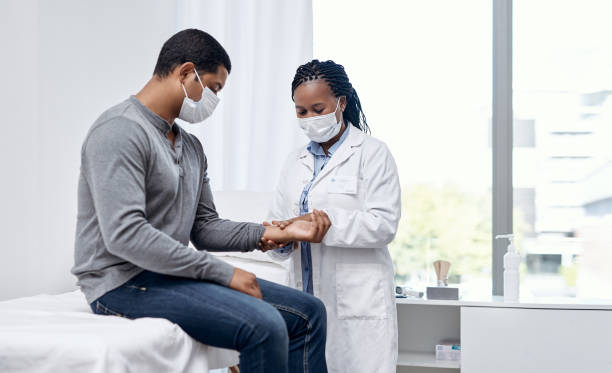with mask: (160, 26, 233, 130), (283, 66, 346, 152)
